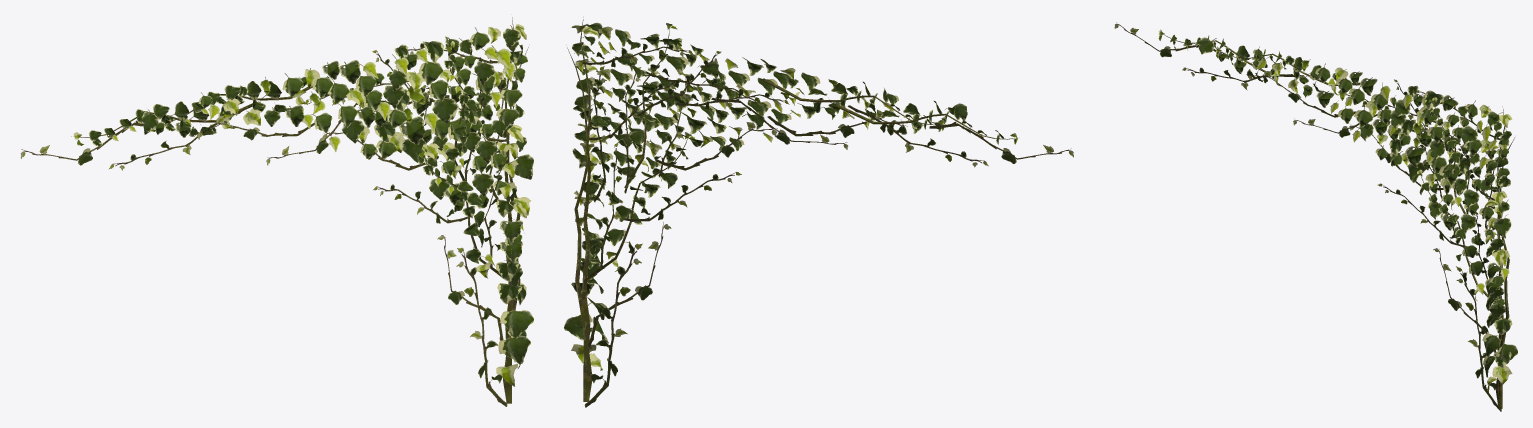
File: lierre.fbx
The picture shows the model from 3 angles, left to right: view 1: azimuth 30°, elevation 25°; view 2: azimuth 150°, elevation 25°; view 3: azimuth 330°, elevation 25°; orthographic projection. The views are drawn at different scales.
Parts seen in each view (by area): view 1: _a315_Var1_LOD0; view 2: _a315_Var1_LOD0; view 3: _a315_Var1_LOD0.
Boxes of the visible parts, left/top/right/bottom form: _a315_Var1_LOD0: left=20, top=17, right=533, bottom=406; _a315_Var1_LOD0: left=564, top=17, right=1073, bottom=407; _a315_Var1_LOD0: left=1114, top=22, right=1517, bottom=411.
Size of the model in its own units: 126 by 93.47 by 9.28.
